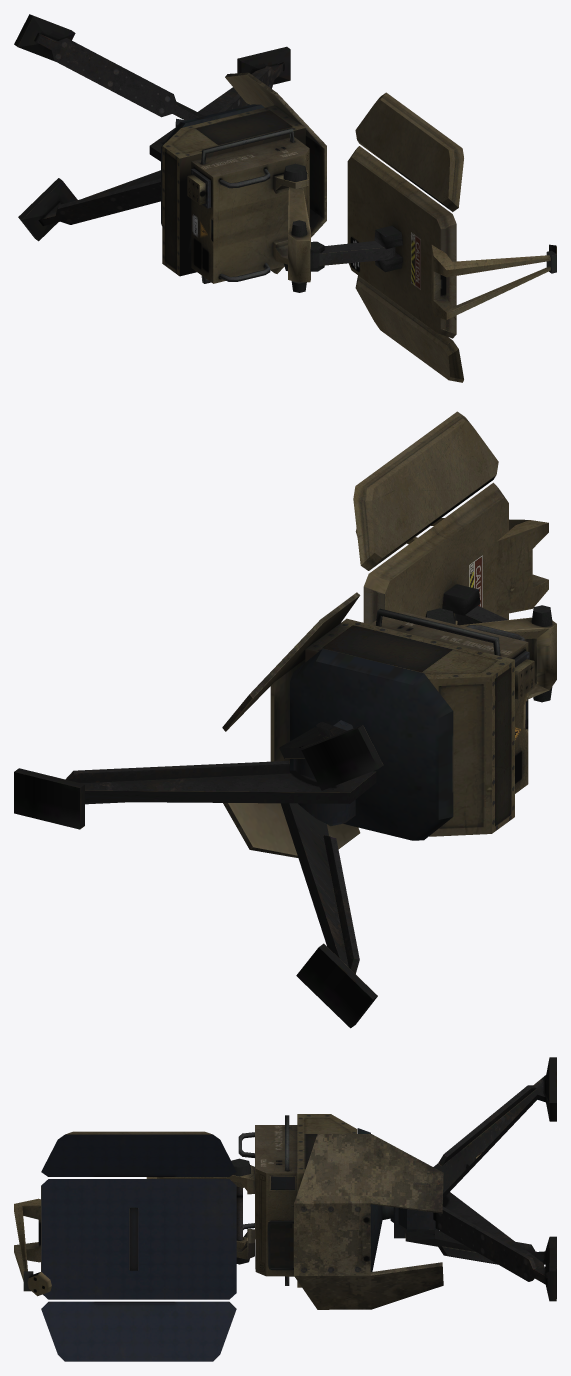
Rendered from t6_wpn_turret_ads_world_LOD1.obj.
The picture shows the model from 3 angles, top to bottom: view 1: azimuth 30°, elevation 25°; view 2: azimuth 150°, elevation 25°; view 3: azimuth 270°, elevation 25°; orthographic projection. The views are drawn at different scales.
Parts seen in each view (by area): view 1: mtl_t6_wpn_turret_ads; view 2: mtl_t6_wpn_turret_ads; view 3: mtl_t6_wpn_turret_ads.
Part boxes in pixels (bbox=[...]): mtl_t6_wpn_turret_ads: bbox=[14, 14, 556, 382]; mtl_t6_wpn_turret_ads: bbox=[14, 411, 556, 1028]; mtl_t6_wpn_turret_ads: bbox=[14, 1057, 556, 1361].
Size of the model in its own units: 102 by 81.86 by 177.
